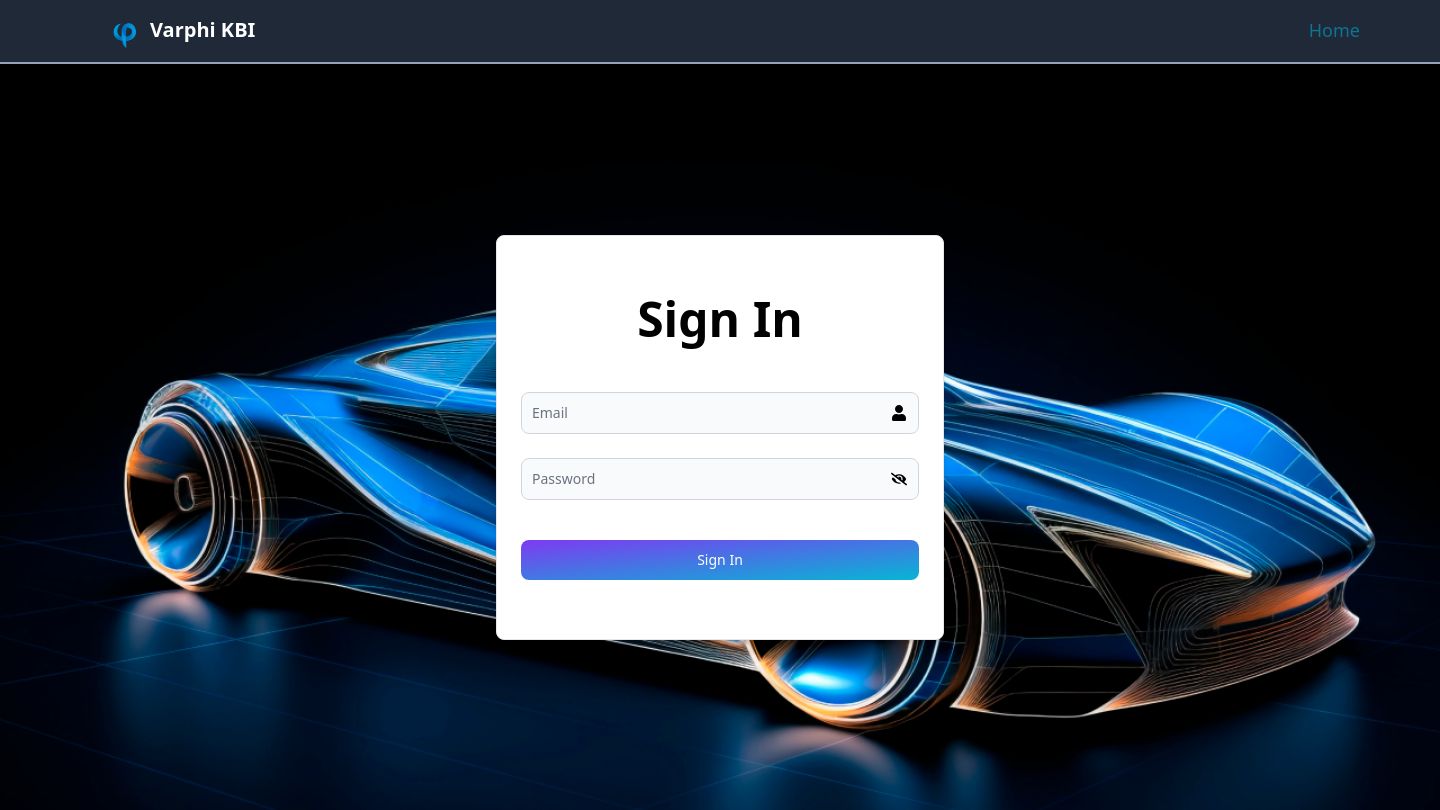
Test: SignIn Component › displays error message on invalid credentials
Note: Fill in the form with wrong credentials
Type "wrong@example.com" into the field with placeholder "Email" at {"x": 720, "y": 413}, box top-left (521, 392), bottom-right (919, 434)
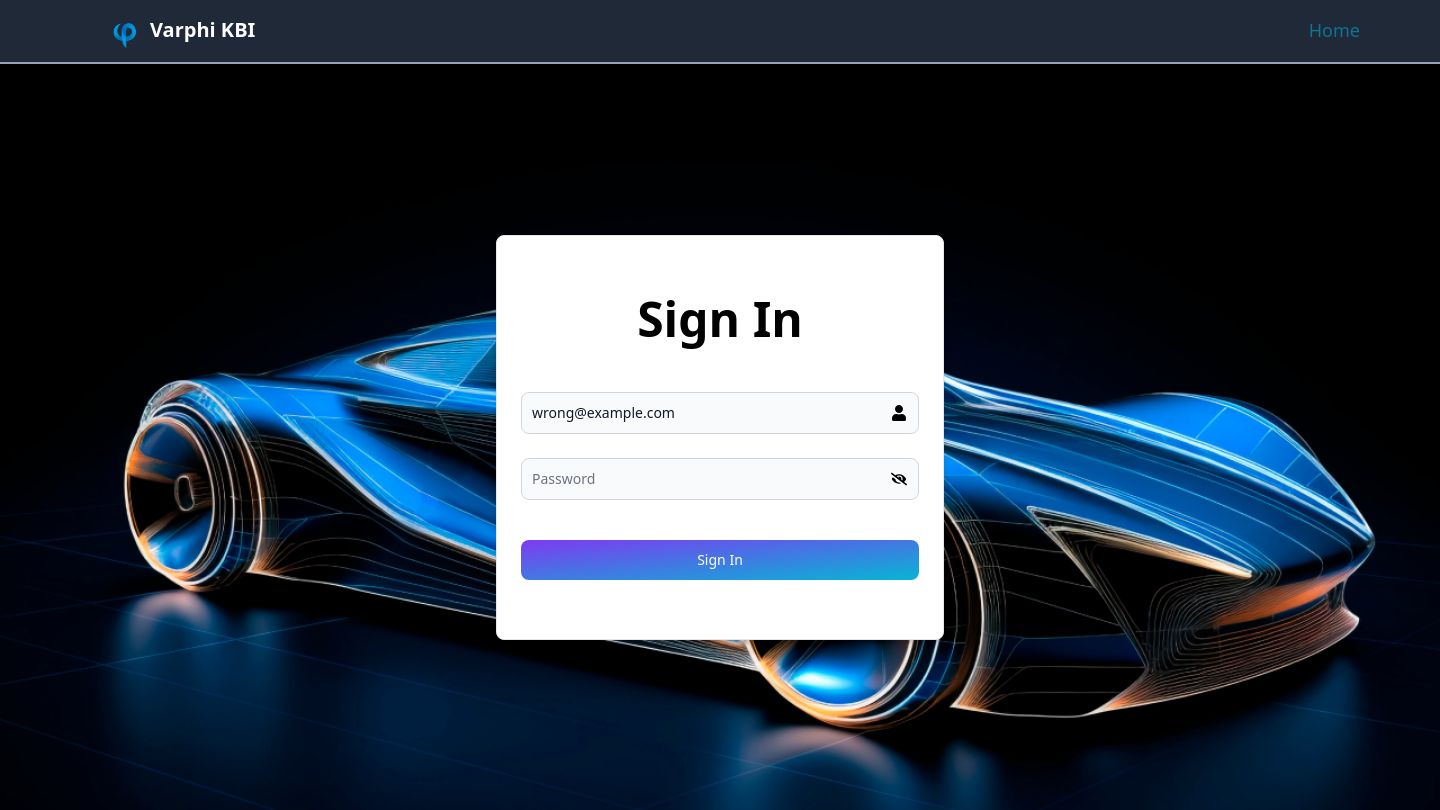
Type "wrongPassword" into the password field with placeholder "Password" at {"x": 720, "y": 479}, box top-left (521, 458), bottom-right (919, 500)
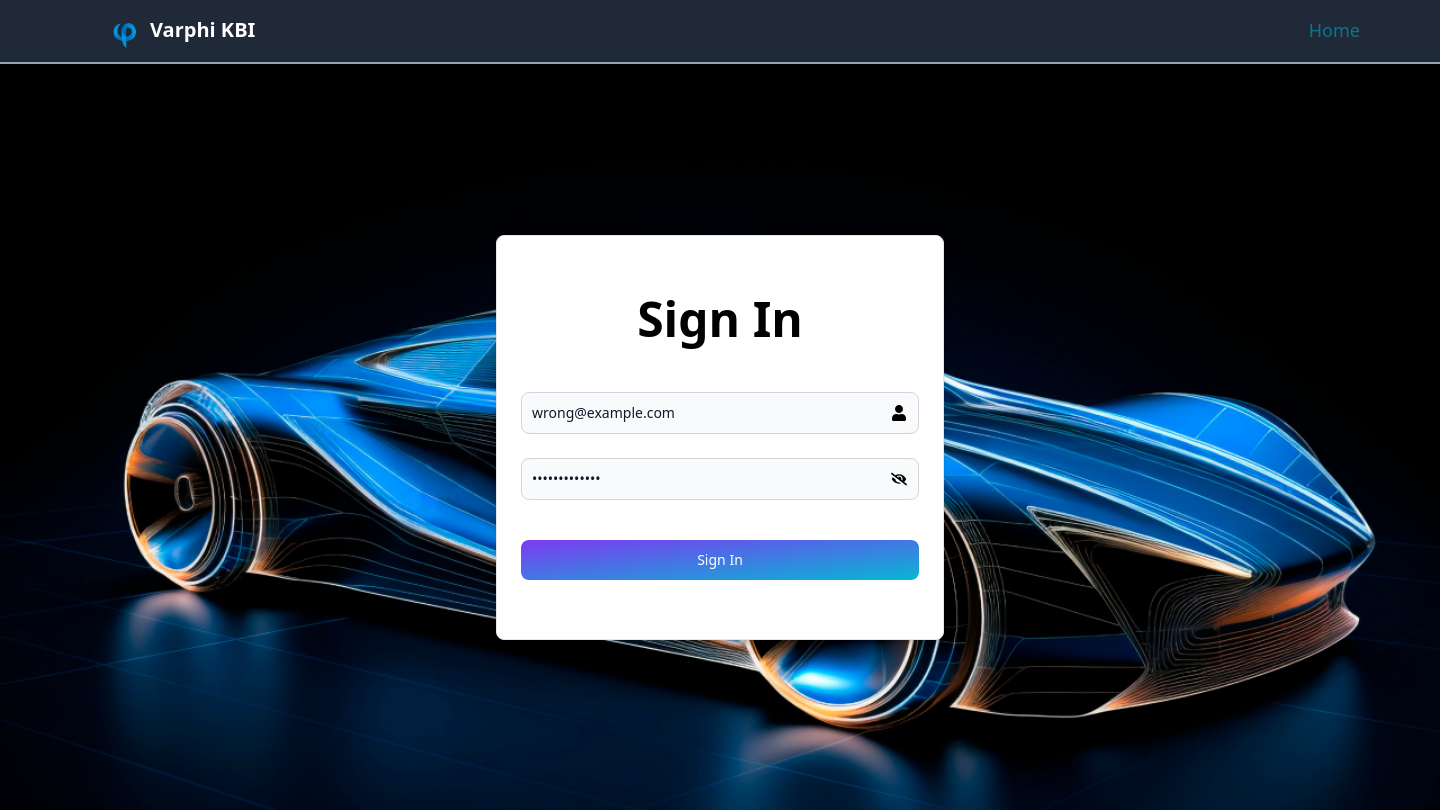
Note: Simulate clicking the sign-in button
Click the button "Sign In" at {"x": 720, "y": 560}, box top-left (521, 540), bottom-right (919, 580)
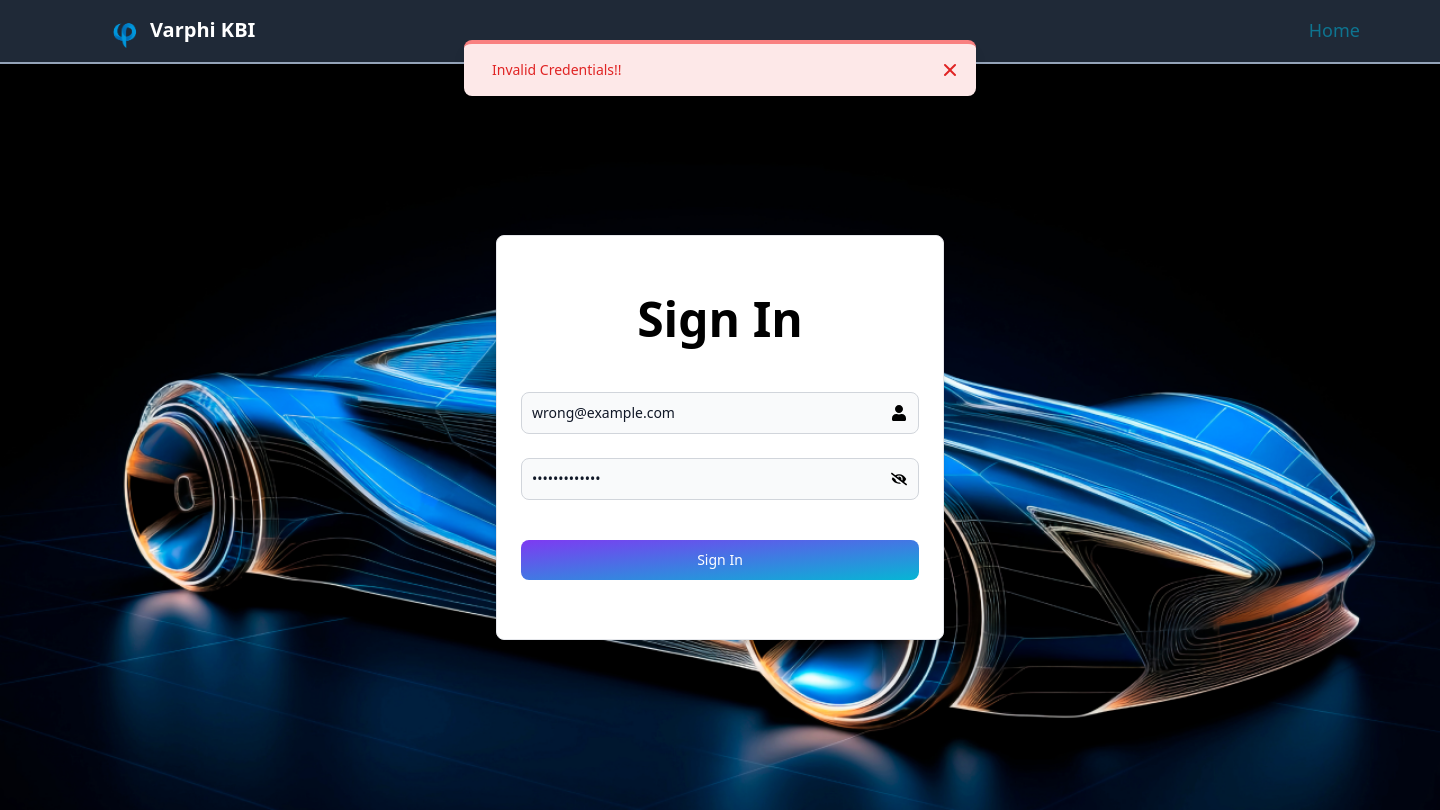
Result: the text "Invalid Credentials!!" is shown at top-left (492, 60), bottom-right (622, 80)
